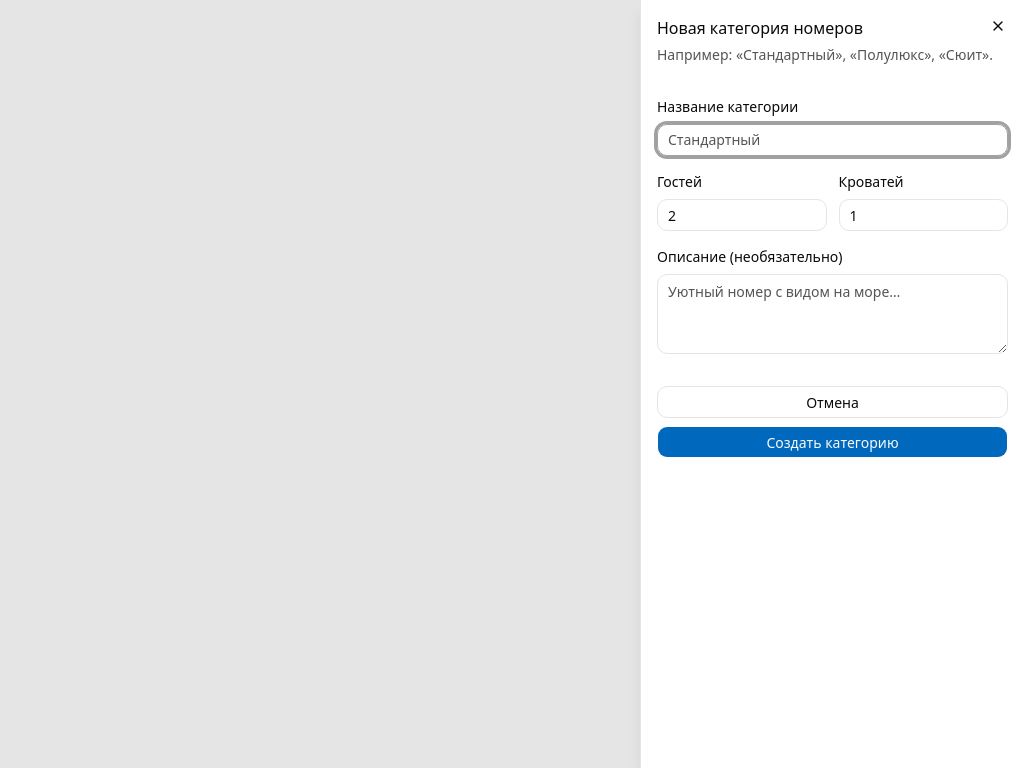
Test: CategoryFormSheet — inline-bounds (B5) › [B2] maxOccupancy=21 surfaces «Не больше 20» (server bound max)
This screenshot has width=1024, height=768.
Replace the text in the number field labelled "Гостей" with "21" at (742, 215), box [657,199,826,231]
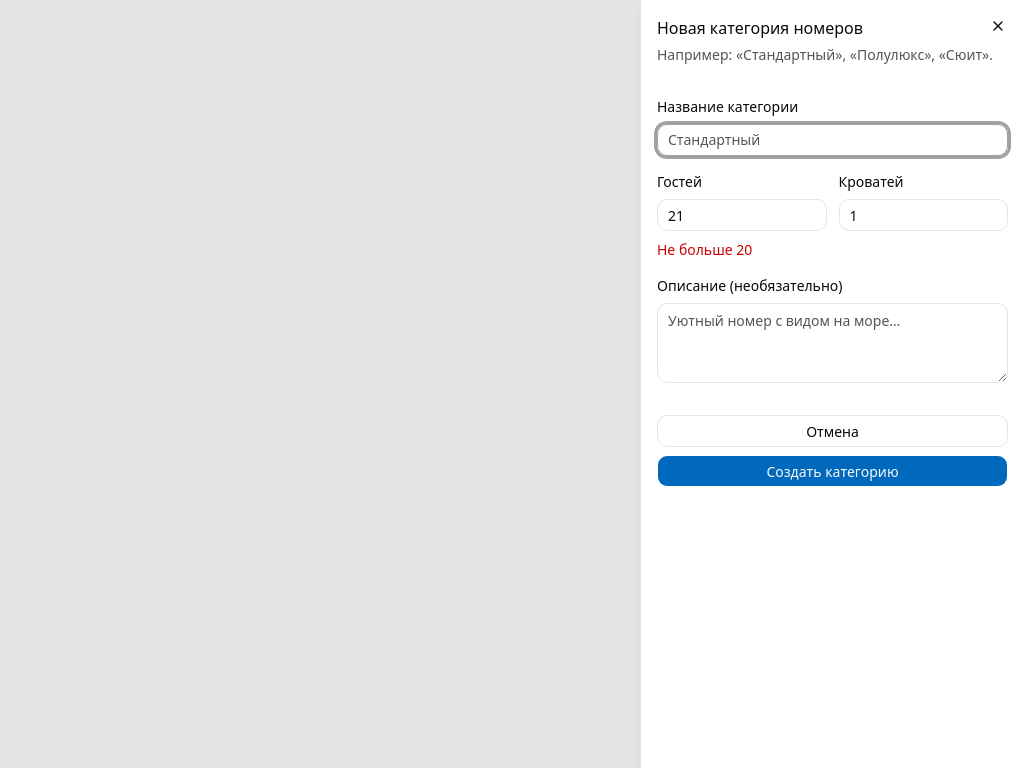
Now the text "Не больше 20" is shown, box [657,240,752,259]
